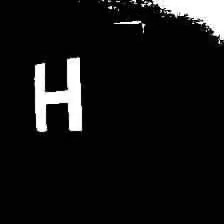LTR_H: (25, 53, 92, 138)
